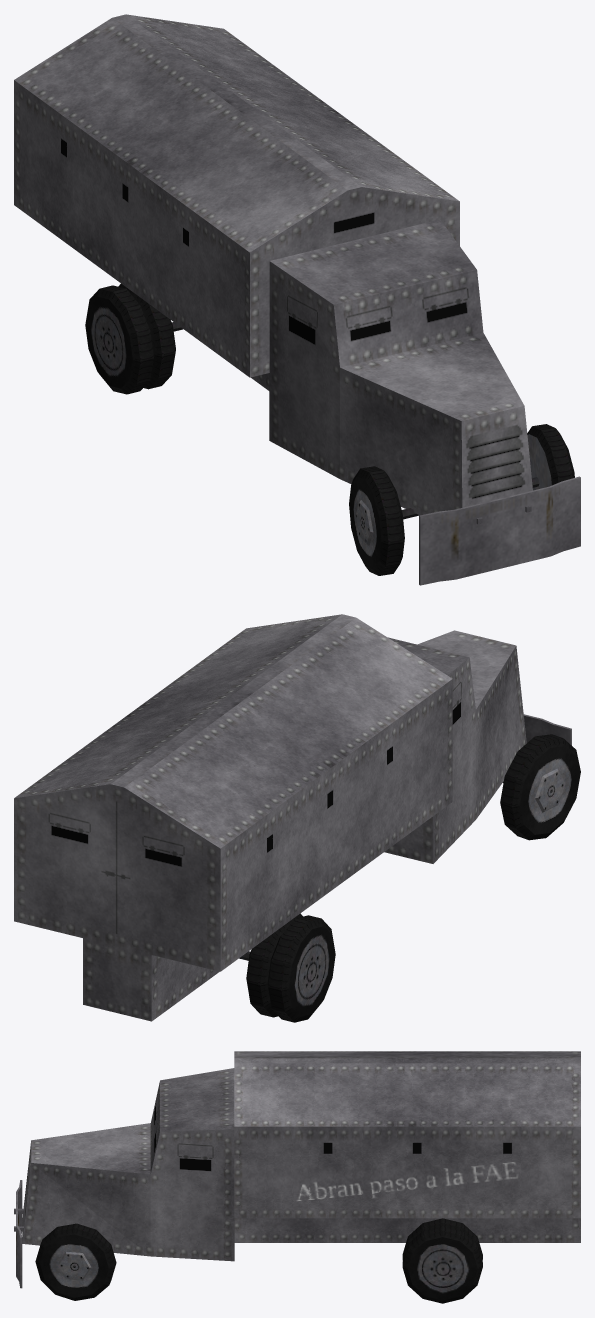
File: ESRTiznao_Damaged.dae
3 renders of one model, top to bottom at view 1: azimuth 30°, elevation 25°; view 2: azimuth 150°, elevation 25°; view 3: azimuth 270°, elevation 25°, orthographic. The views are drawn at different scales.
Visible parts, largest first — view 1: base, wheels2, wheels1; view 2: base, wheels2, wheels1; view 3: base, wheels2, wheels1.
Part boxes in pixels (x1,y1,x2,y2): base: [14, 14, 580, 585]; wheels2: [85, 283, 183, 394]; wheels1: [349, 424, 574, 575]; base: [14, 614, 571, 1021]; wheels2: [239, 913, 335, 1022]; wheels1: [500, 734, 580, 840]; base: [14, 1051, 580, 1288]; wheels2: [402, 1218, 482, 1303]; wheels1: [35, 1223, 116, 1300].
Bounding box in the file's own units: 17.22 × 54.8 × 22.08.
